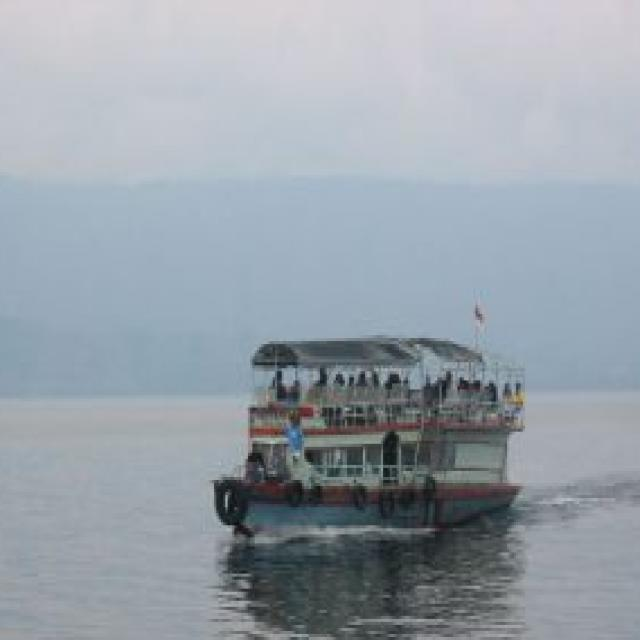houseboat: (208, 305, 532, 554)
